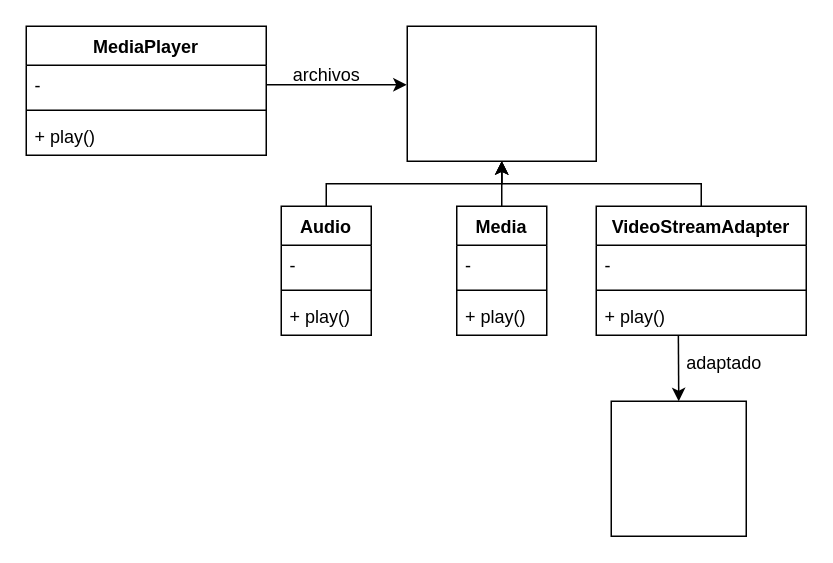
Image size: 833x563. Some labels were removed from this diagram. Here are the shapes that lost their labels. From the top down, the centre of each, then its label:
At [501,93]: "<<Abstract>> Media - + play()".
At [678,468]: "VideoStream - + reproduce()".
